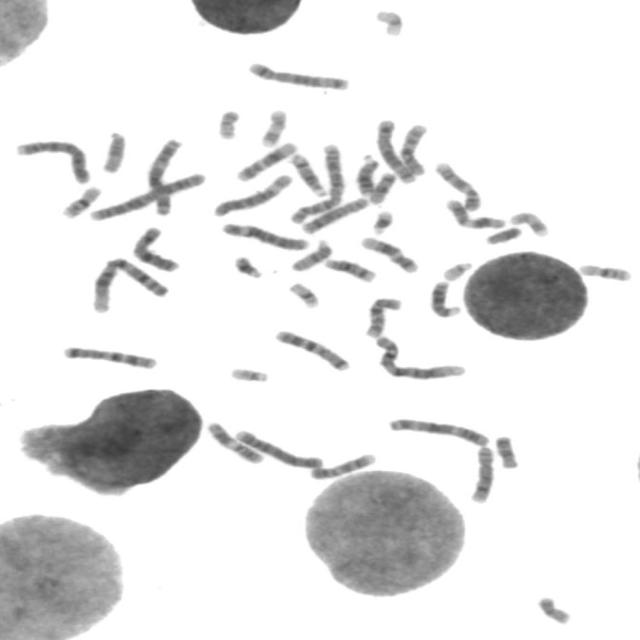A1: (84, 252, 171, 314), (369, 331, 469, 381)
A2: (84, 168, 208, 222), (284, 139, 347, 225)
A3: (382, 413, 492, 448), (142, 134, 185, 217)
B4: (229, 425, 326, 470), (10, 134, 92, 185)
B5: (242, 57, 351, 91), (370, 115, 418, 184)
C10: (394, 119, 429, 178), (359, 292, 403, 338)
C11: (201, 417, 266, 464), (440, 194, 507, 230)
C12: (231, 137, 299, 182), (354, 232, 420, 274)
C6: (207, 169, 295, 217), (217, 218, 310, 252)
C7: (269, 326, 352, 372), (57, 341, 160, 370)
C8: (296, 192, 371, 235), (464, 441, 496, 505)
C9: (429, 157, 484, 212), (304, 449, 377, 481)
D13: (424, 276, 462, 318), (350, 150, 381, 196)
D14: (284, 148, 328, 198), (317, 254, 378, 283)
D15: (286, 235, 334, 272), (95, 126, 128, 175)
E16: (55, 182, 104, 220), (574, 259, 634, 282)
E17: (503, 207, 552, 238), (254, 104, 288, 148)
E18: (364, 168, 398, 205), (489, 431, 521, 470)
F19: (283, 278, 322, 310), (369, 5, 406, 37)
F20: (531, 591, 573, 626), (212, 106, 242, 140)
G21: (228, 251, 265, 279), (366, 206, 396, 235)
G22: (223, 363, 271, 383), (437, 258, 474, 282)
X: (126, 221, 182, 273)
Y: (480, 222, 524, 246)
